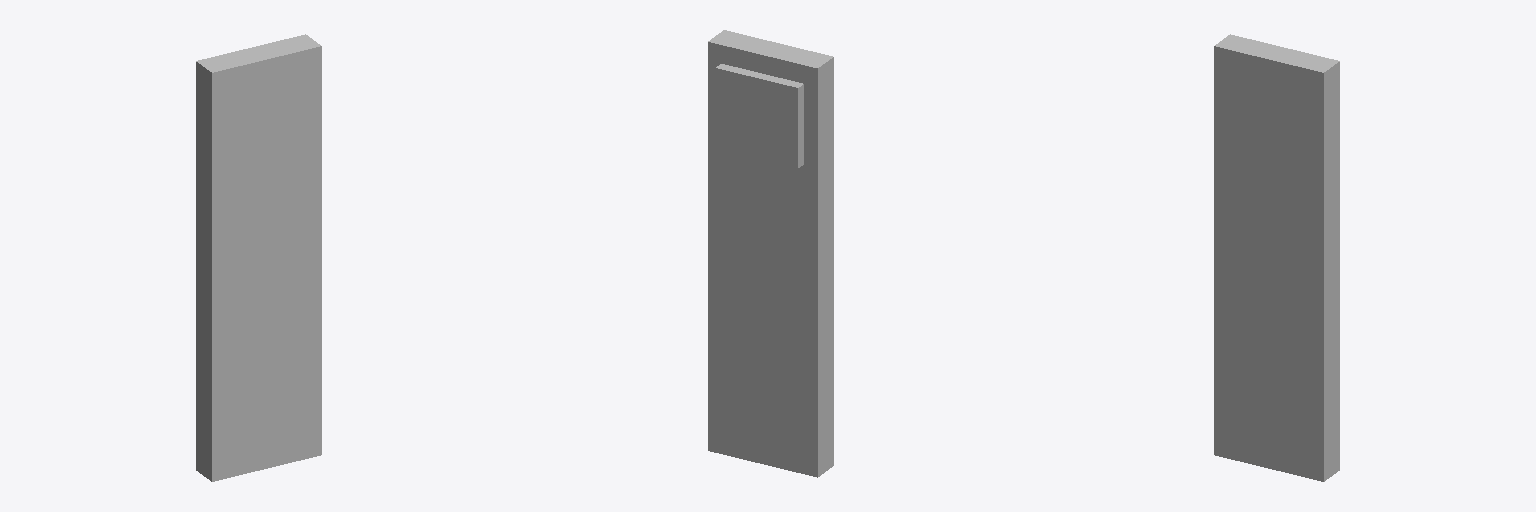
Rendered from usePanel.obj.
3 views of the same model, side by side, from view 1: azimuth 30°, elevation 25°; view 2: azimuth 150°, elevation 25°; view 3: azimuth 330°, elevation 25° (orthographic).
Visible parts, largest first — view 1: Mesh; view 2: Mesh; view 3: Mesh.
Boxes of the visible parts, x1=… form: Mesh: x1=196, y1=34, x2=321, y2=481; Mesh: x1=708, y1=30, x2=833, y2=477; Mesh: x1=1214, y1=34, x2=1339, y2=481.
Size of the model in its own units: 0.53 by 1.89 by 0.1848.